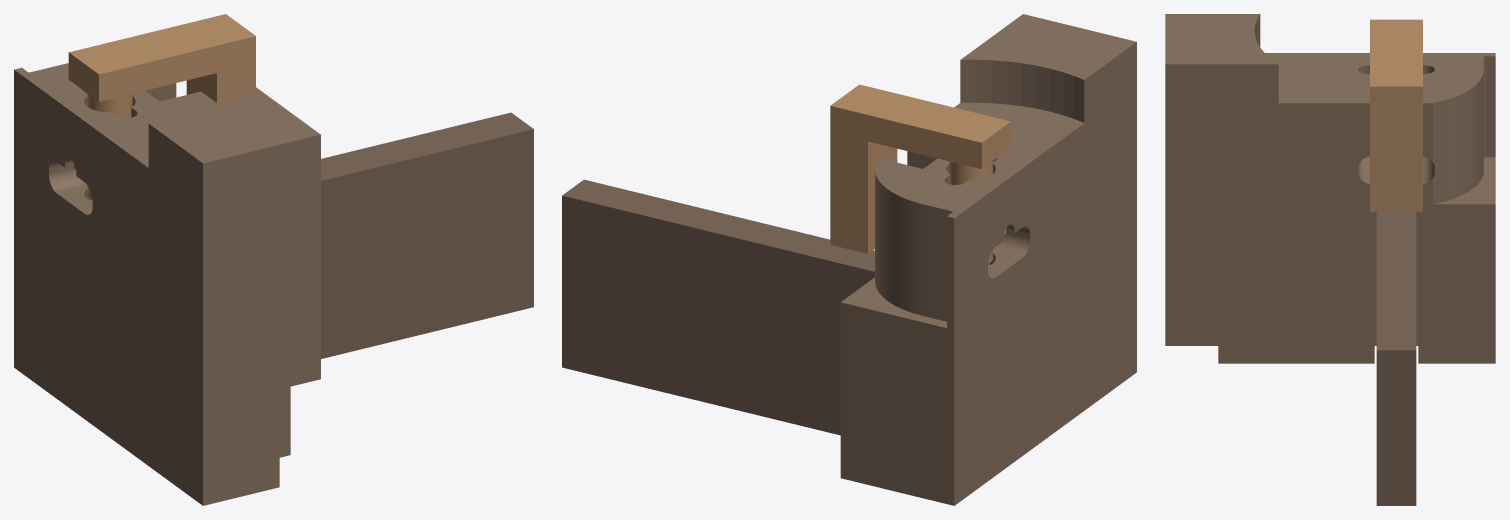
File: sample-assembled.glb
3 views of the same model, side by side, from view 1: azimuth 30°, elevation 25°; view 2: azimuth 150°, elevation 25°; view 3: azimuth 270°, elevation 25° (orthographic). The views are drawn at different scales.
Parts seen in each view (by area): view 1: frame-left, back-panel, back-stop-left; view 2: frame-left, back-panel, back-stop-left; view 3: frame-left, back-panel, back-stop-left.
Boxes of the visible parts, x1,y1,x2,y2 form: frame-left: (14, 63, 320, 505); back-panel: (321, 112, 533, 358); back-stop-left: (68, 14, 255, 199); frame-left: (840, 14, 1136, 505); back-panel: (562, 179, 874, 435); back-stop-left: (830, 84, 1010, 263); frame-left: (1165, 14, 1495, 363); back-panel: (1376, 212, 1416, 505); back-stop-left: (1370, 19, 1422, 212).
Bounding box in the file's own units: 0.069 × 0.05 × 0.05.
